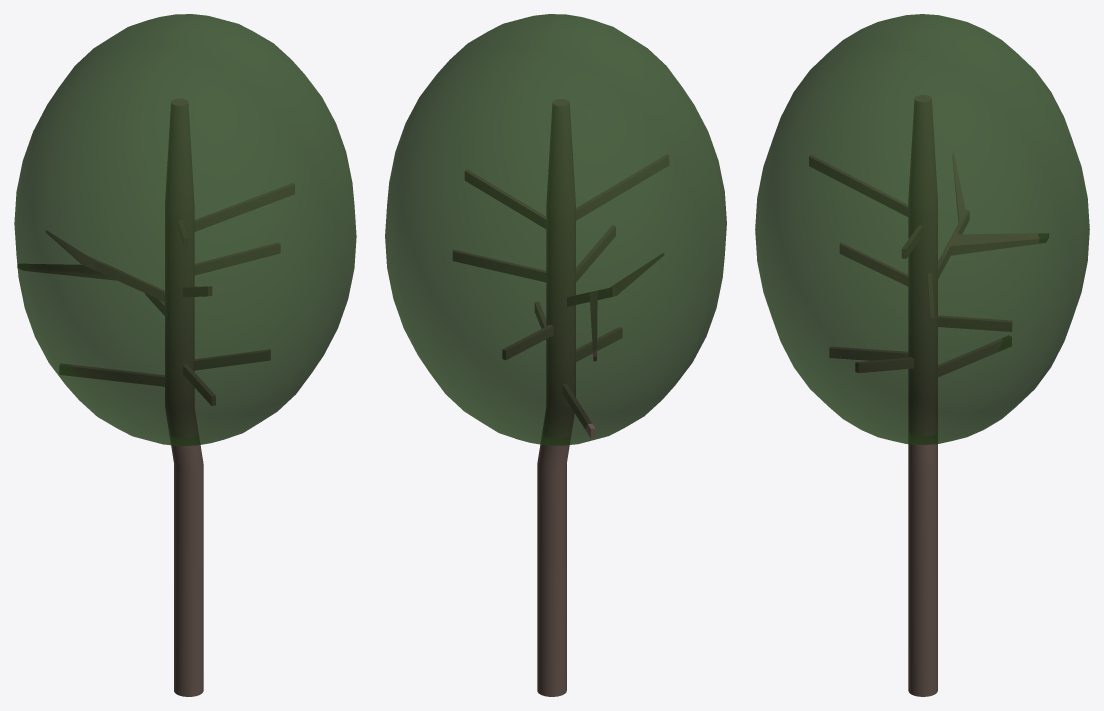
Rendered from arbre mort 1.fbx.
3 renders of one model, left to right at view 1: azimuth 30°, elevation 25°; view 2: azimuth 150°, elevation 25°; view 3: azimuth 270°, elevation 25°, orthographic.
Visible parts, largest first — view 1: pasted__polySurface3, pasted__polySurface4; view 2: pasted__polySurface3, pasted__polySurface4; view 3: pasted__polySurface3, pasted__polySurface4.
Boxes of the visible parts, box(x1,y1,x2,y2) form: pasted__polySurface3: box(14, 14, 356, 445); pasted__polySurface4: box(17, 99, 294, 696); pasted__polySurface3: box(385, 14, 726, 445); pasted__polySurface4: box(453, 99, 668, 696); pasted__polySurface3: box(755, 14, 1089, 445); pasted__polySurface4: box(809, 95, 1048, 696).
Size of the model in its own units: 4.77 by 10.09 by 4.62.
